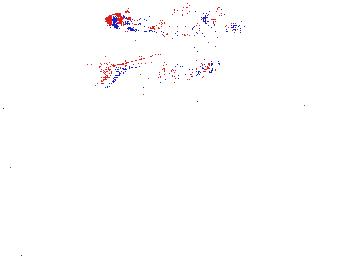glassfish: (83, 5, 197, 54)
redtail glassfish: (95, 52, 221, 90), (126, 11, 216, 35), (106, 5, 178, 30)
